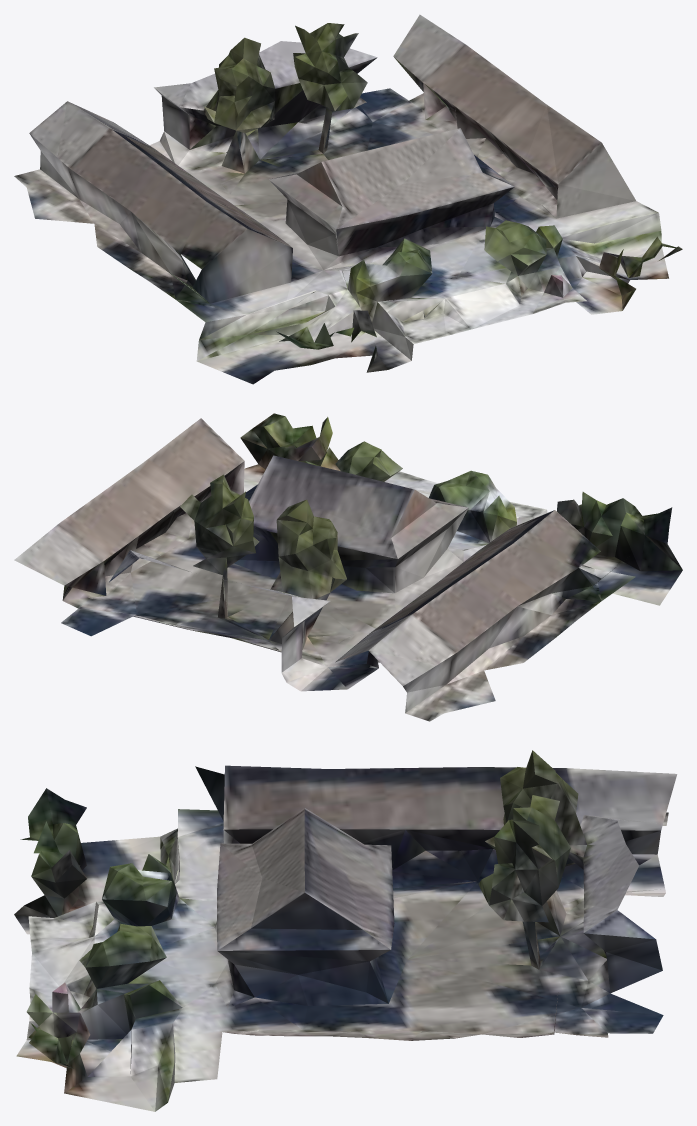
The model's file is Tile_+003_+003_L17_00.glb.
3 views of the same model, one above another, from view 1: azimuth 30°, elevation 25°; view 2: azimuth 150°, elevation 25°; view 3: azimuth 270°, elevation 25° (orthographic). The views are drawn at different scales.
Size of the model in its own units: 60.33 by 20.45 by 60.04.
Materials: 1 (1 with a texture image).
